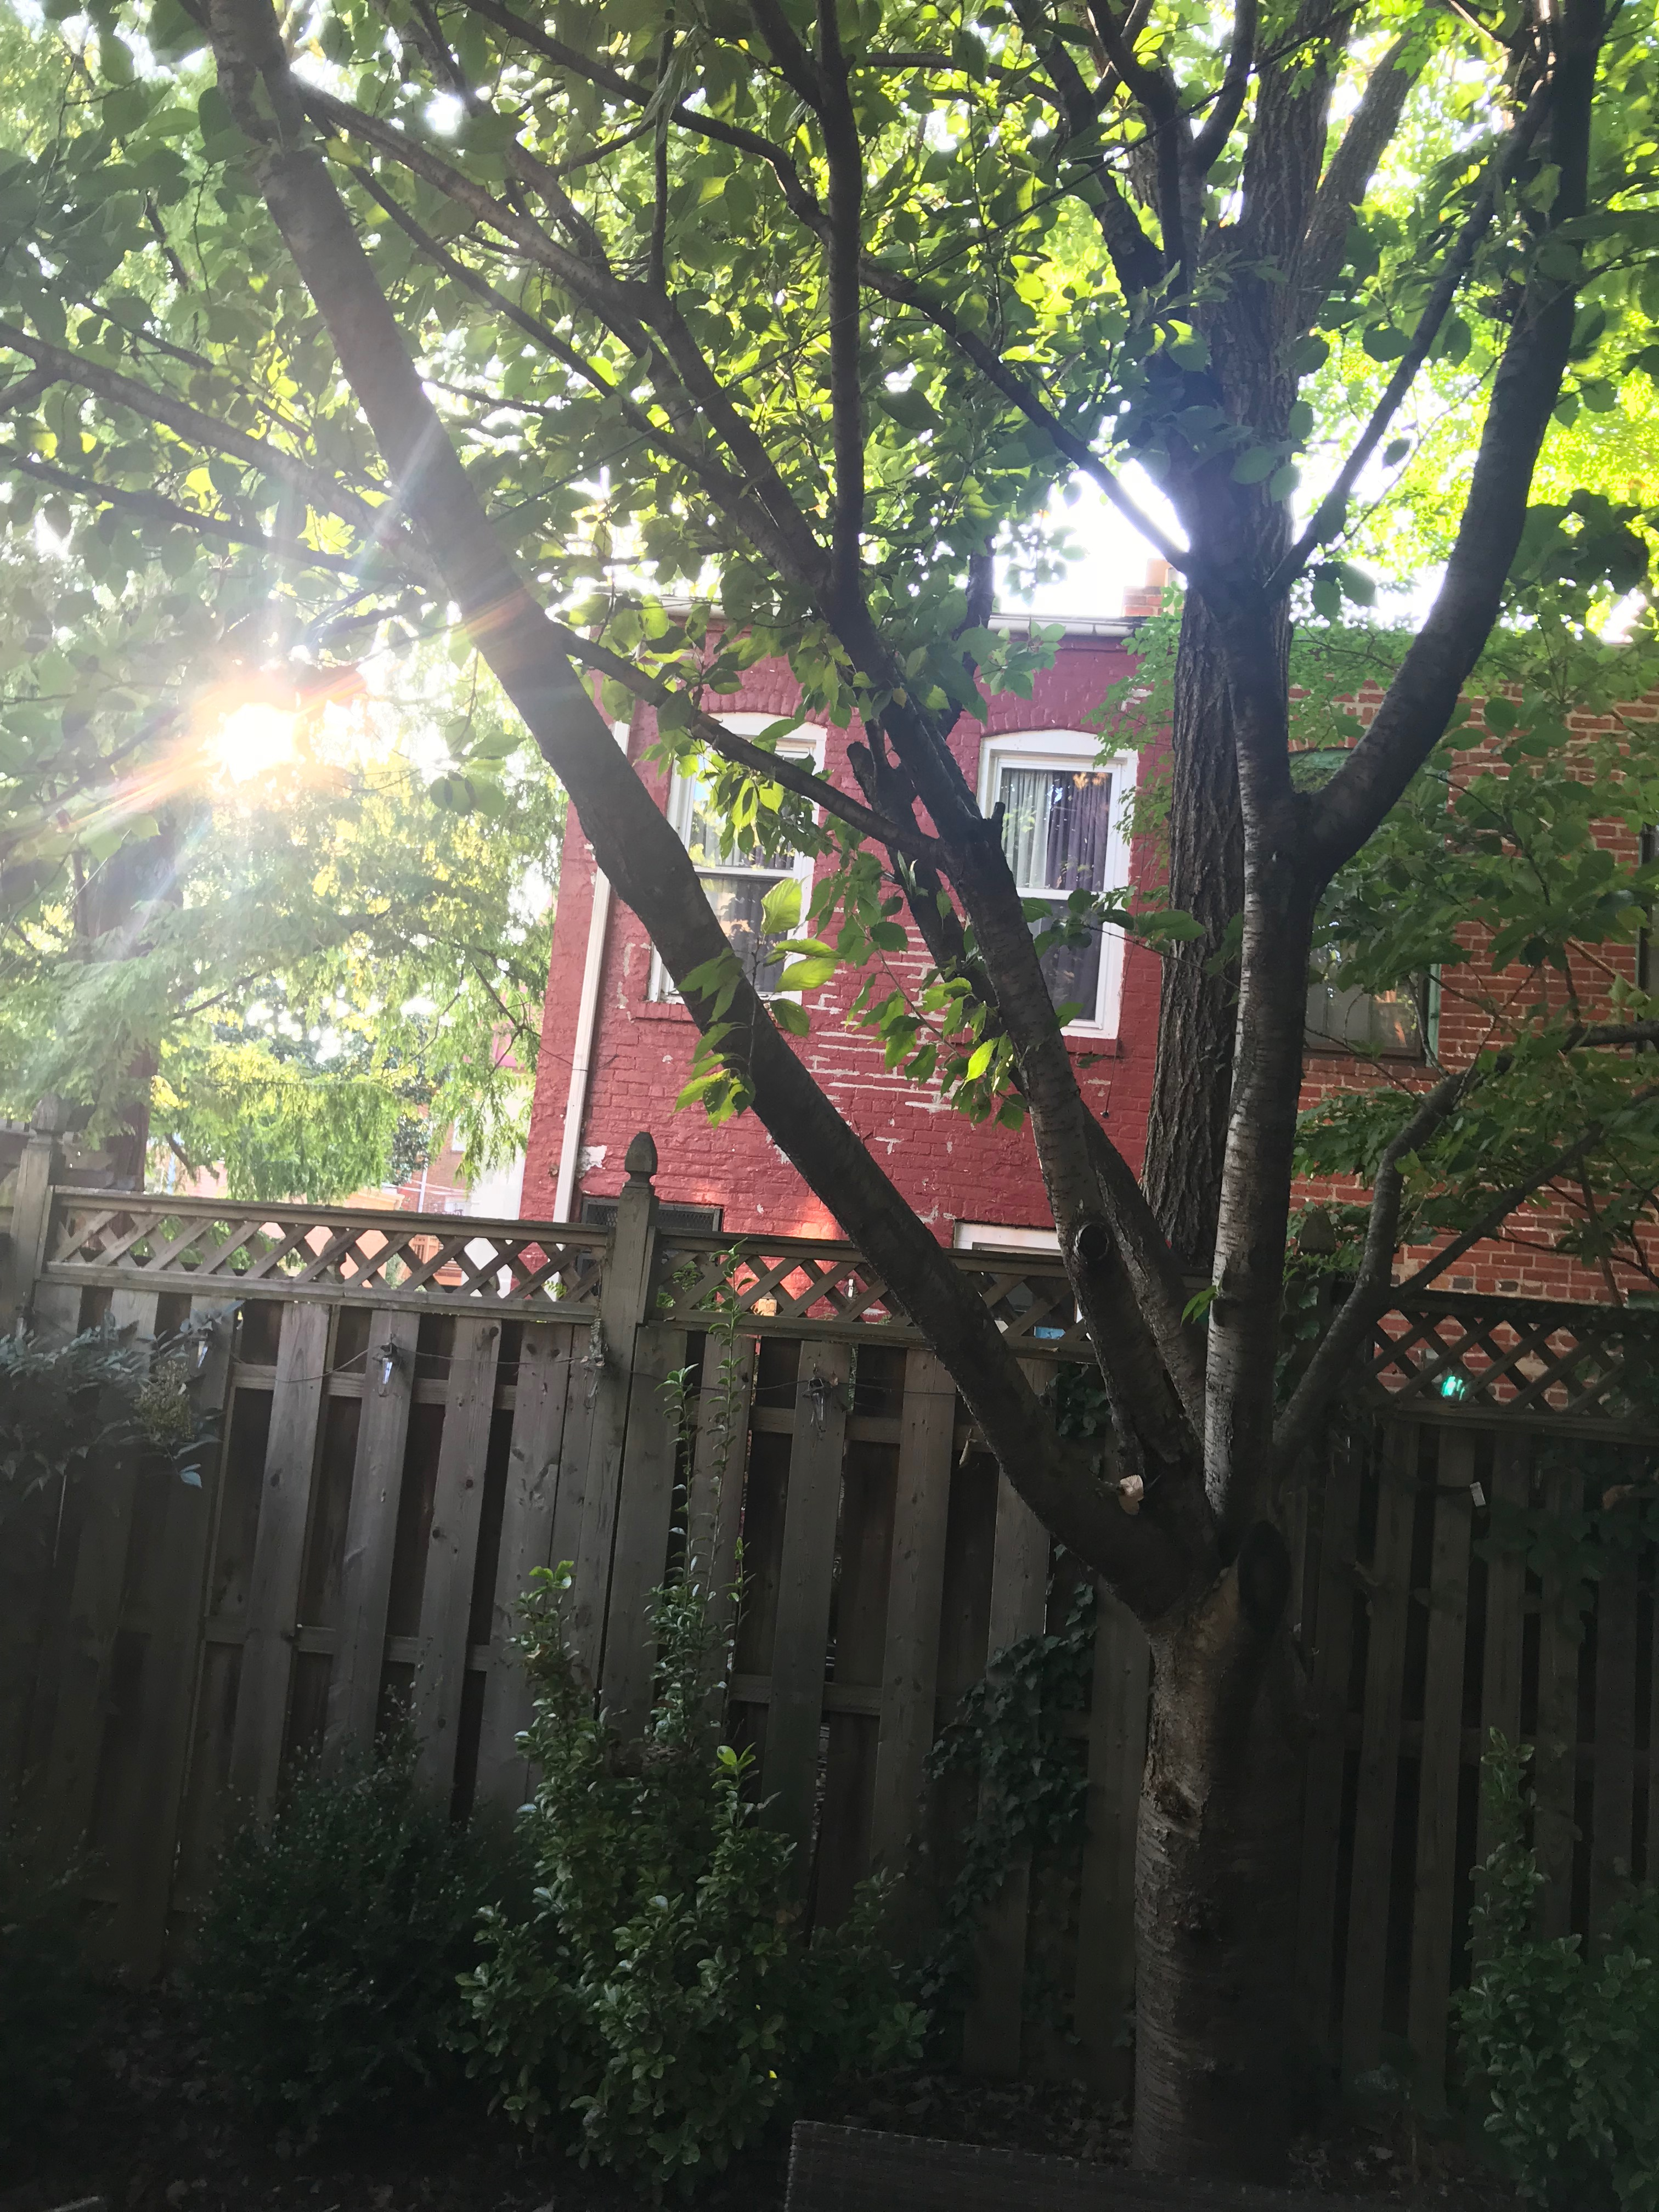flare: (1439, 1372, 1467, 1402)
